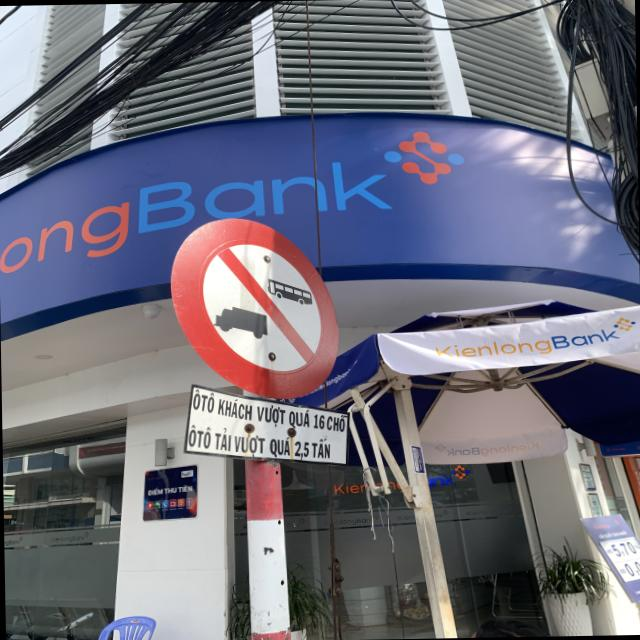Cam_XeTai_XeKhach: (168, 215, 341, 402)
